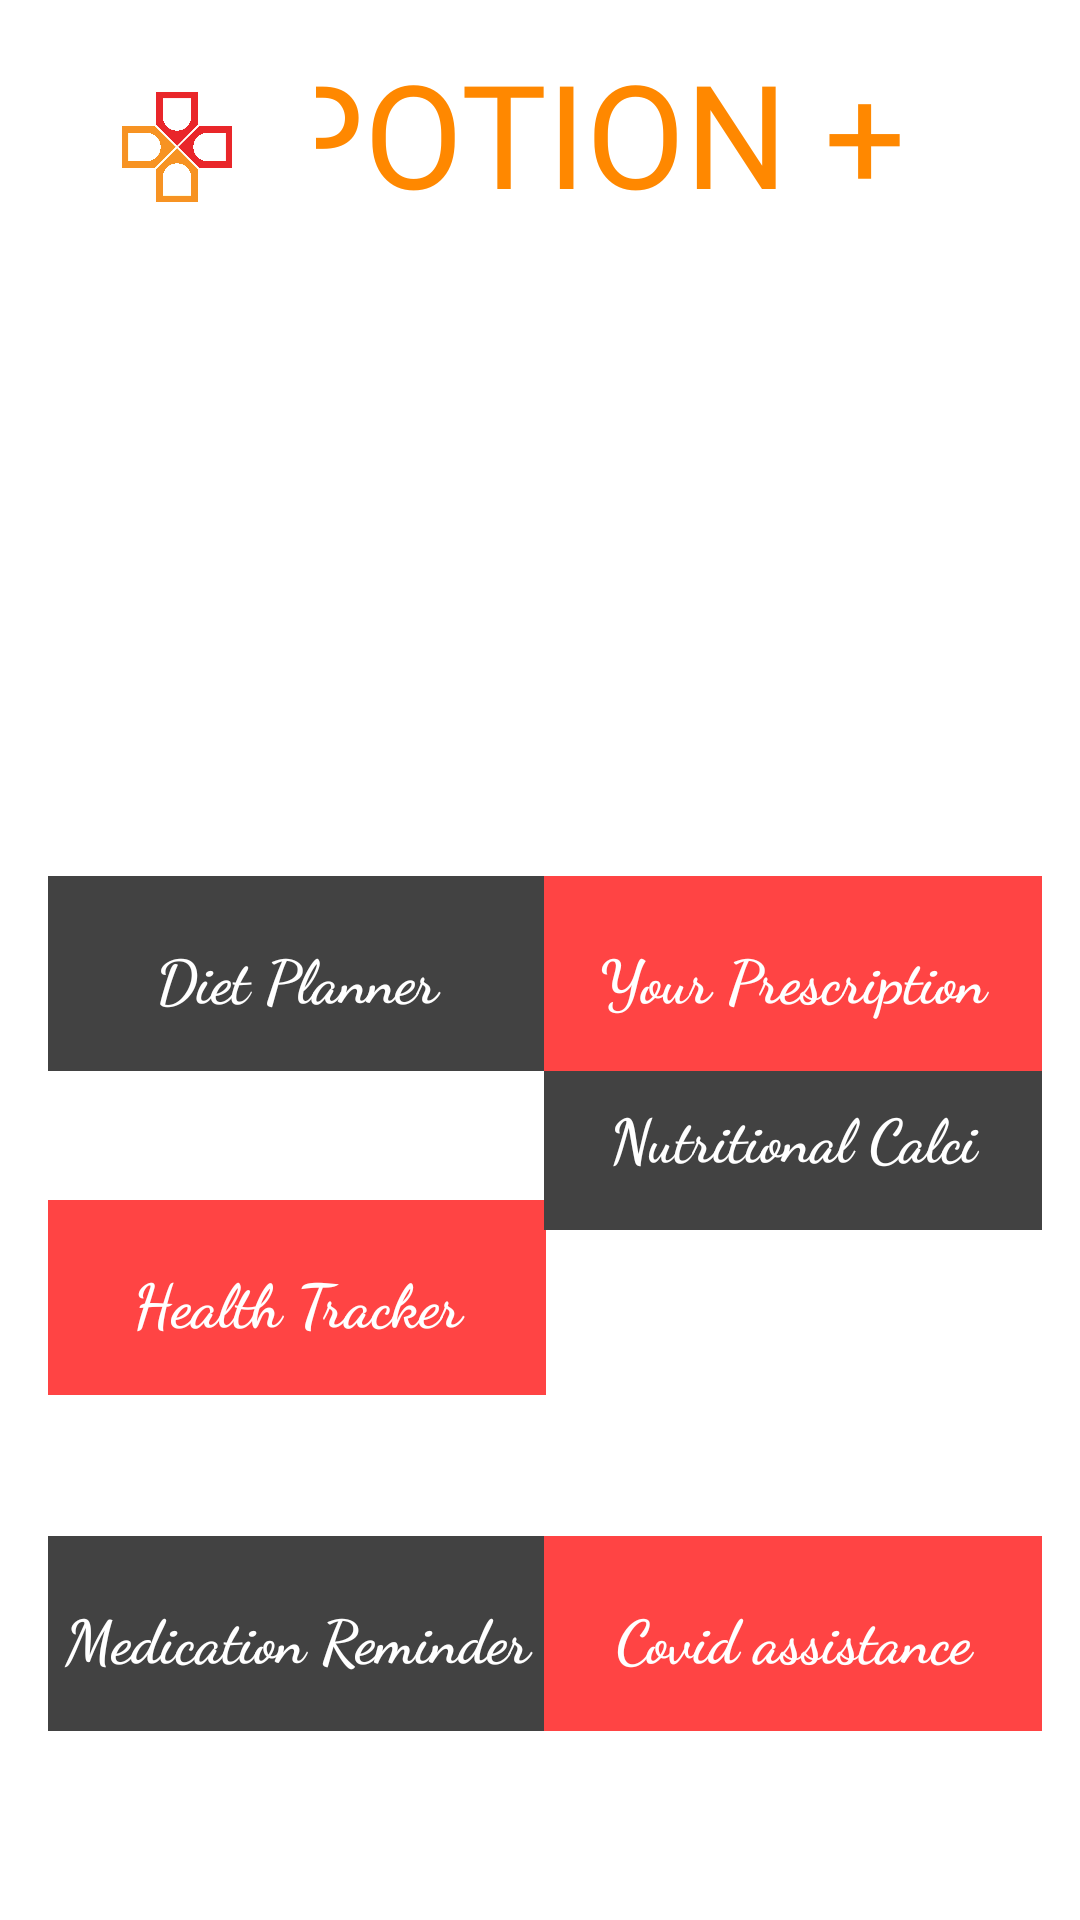

Where to tap for icons on this 1080 × 1920 app screen, as point (x, y):
hos: point (177, 147)
